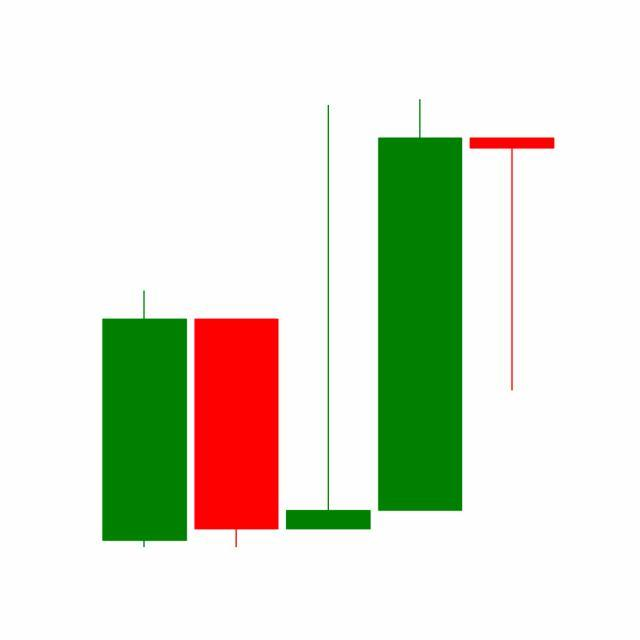Dragonfly Doji: (466, 136, 559, 395)
